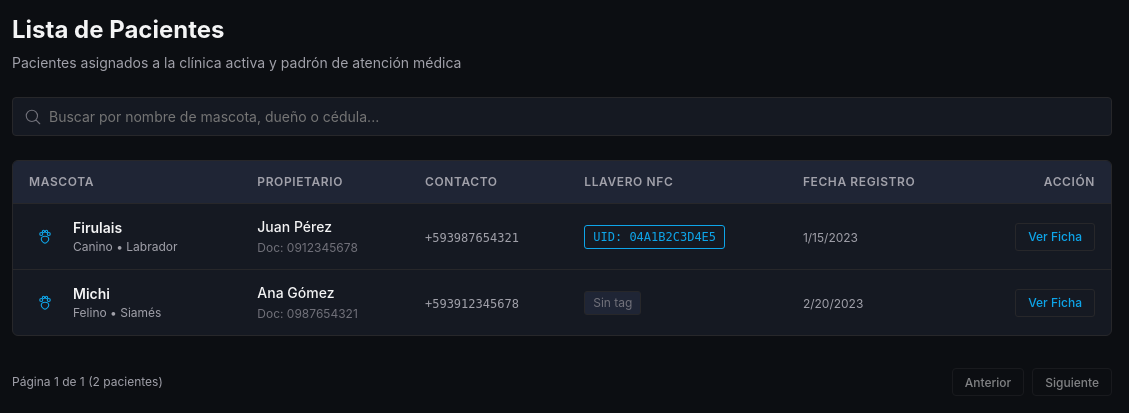
UI: PetListScreen (SPEC EARS) › permite filtrar pacientes por nombre mediante la barra de búsqueda con debounce
Expected: the text "Firulais" is shown, top-left (73, 219), bottom-right (122, 236)
Type "Michi" into the search field named "buscar pacientes" at (562, 116), box top-left (12, 97), bottom-right (1112, 136)
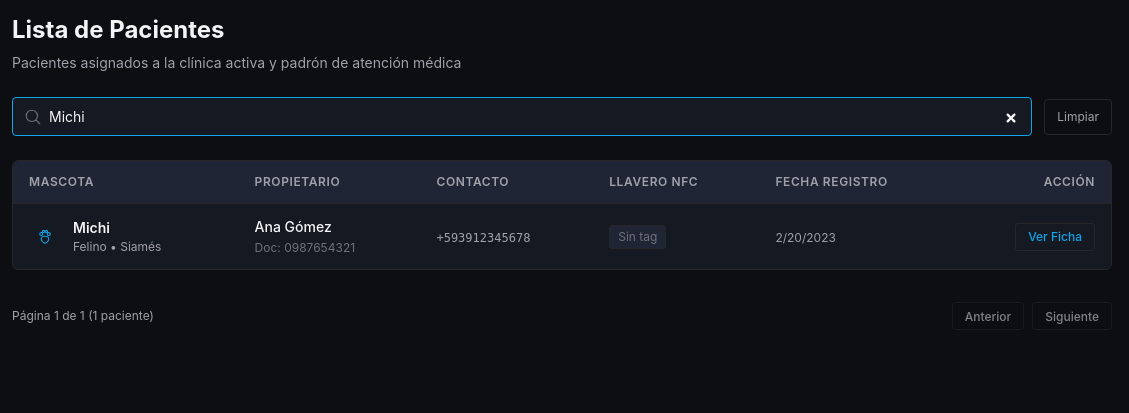
Expected: the text "Michi" is shown, top-left (73, 219), bottom-right (110, 236)
Expected: the button "Firulais" is gone
